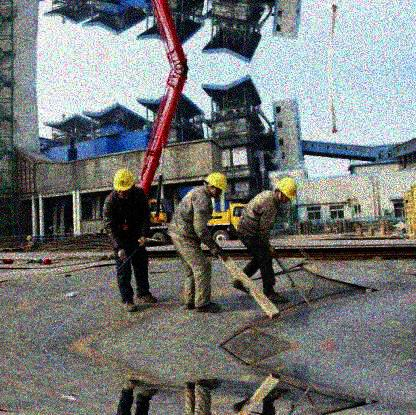helmet: (112, 167, 136, 198), (272, 177, 297, 205), (203, 173, 228, 199)
